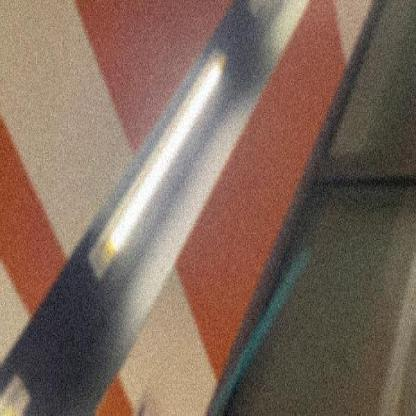light_on: (80, 40, 240, 282), (0, 351, 44, 415)
